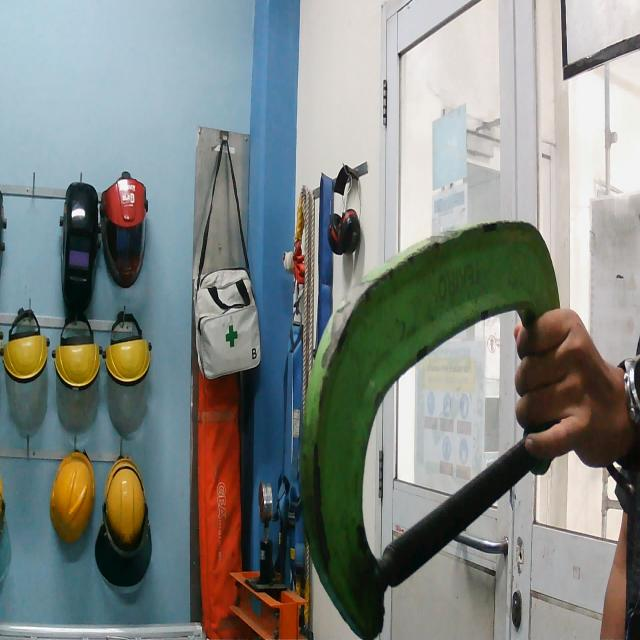tekiro_c_clamp: (297, 219, 569, 638)
